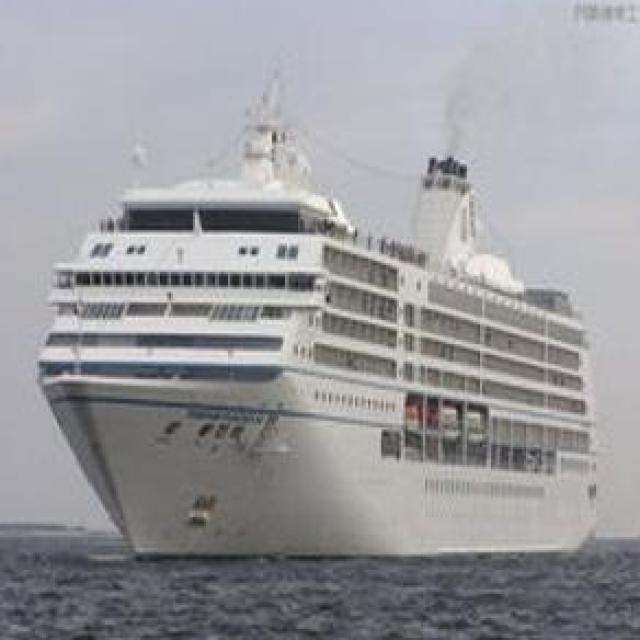passenger ship: (33, 114, 601, 556)
